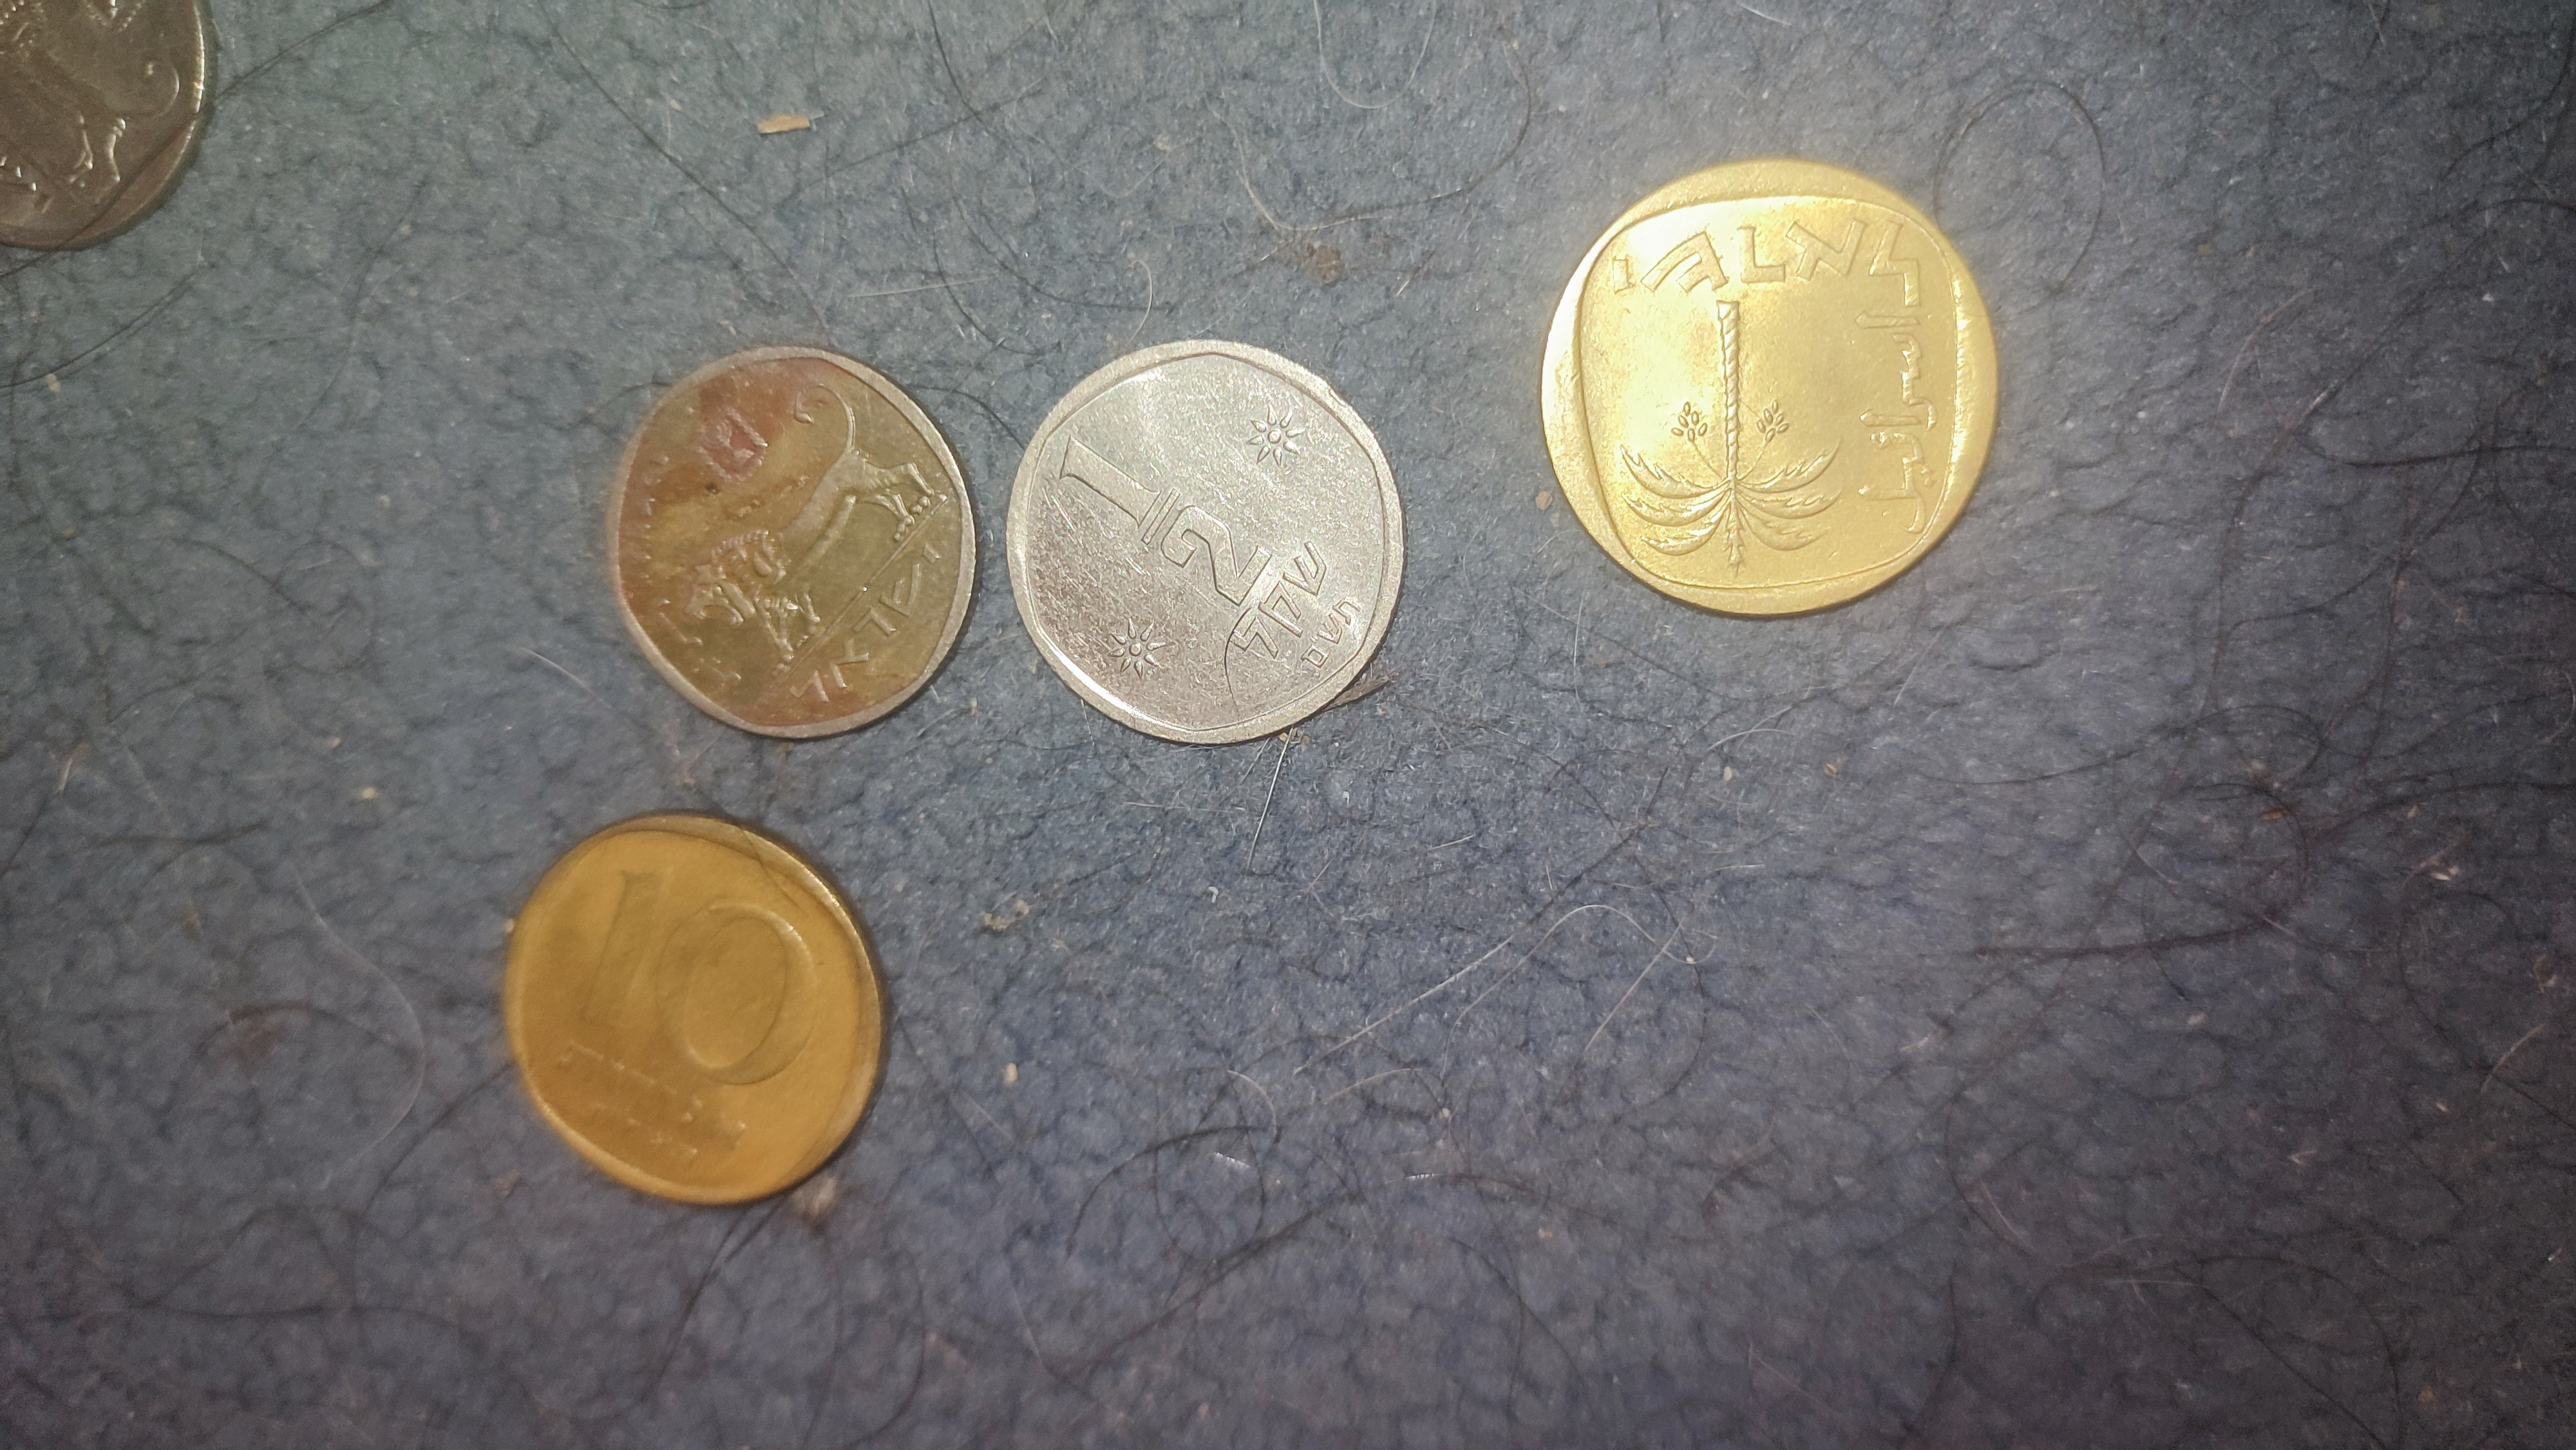1/2 old sheqel: (1001, 334, 1410, 752), (600, 341, 978, 746)
10 old agora brown: (1525, 152, 2008, 635), (494, 801, 897, 1218)
